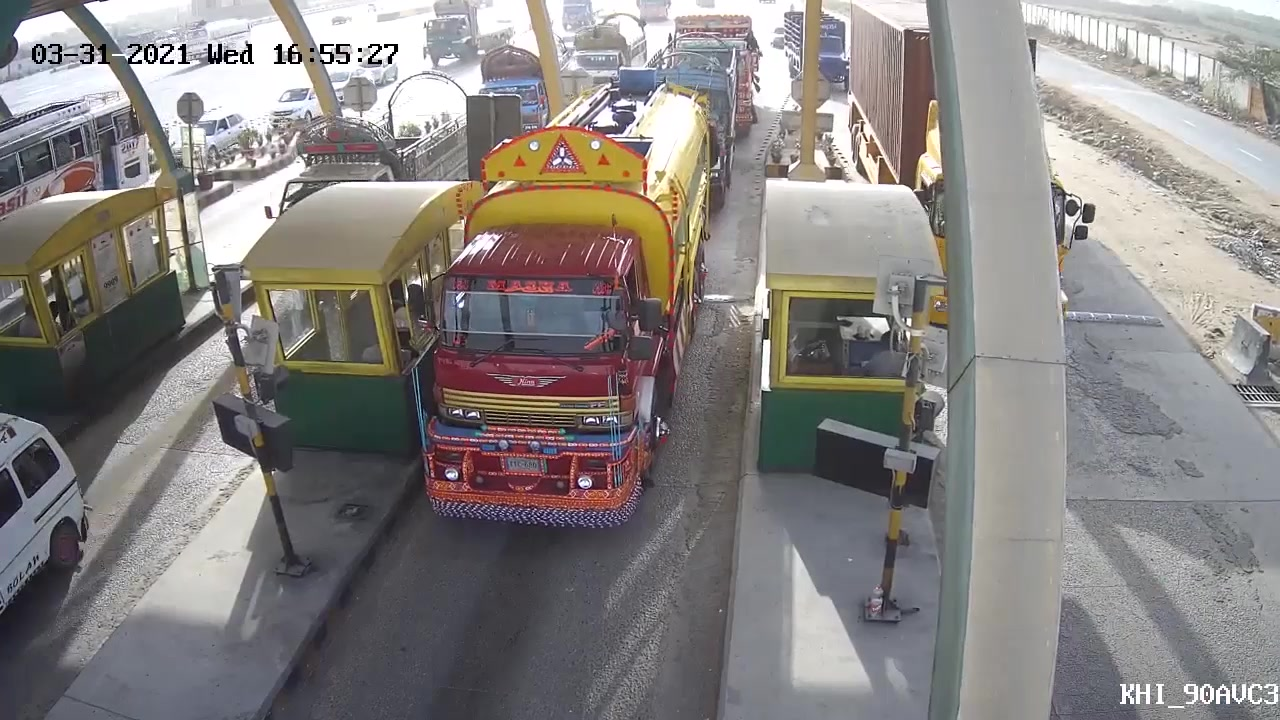F5: (413, 87, 716, 540)
